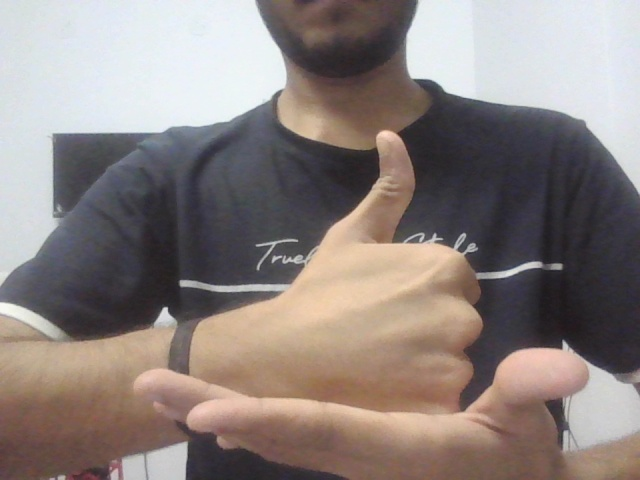Help: (98, 101, 640, 480)
